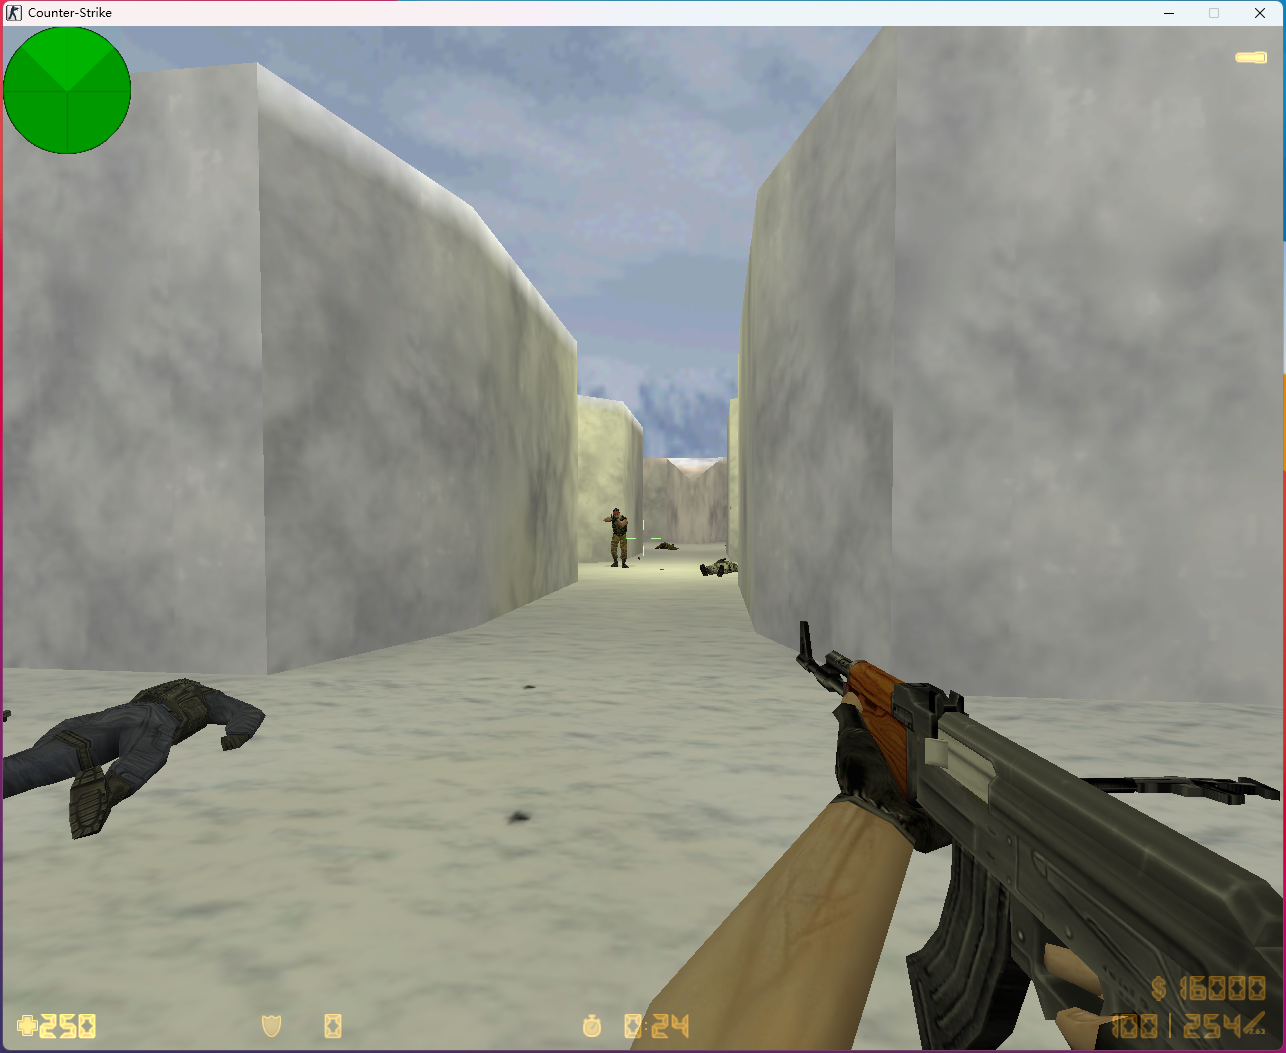T: (603, 508, 630, 570)
dead: (1, 677, 267, 838), (697, 556, 740, 578), (650, 538, 680, 553)
